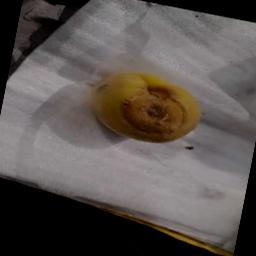Peach Rotten: (74, 55, 216, 162)
